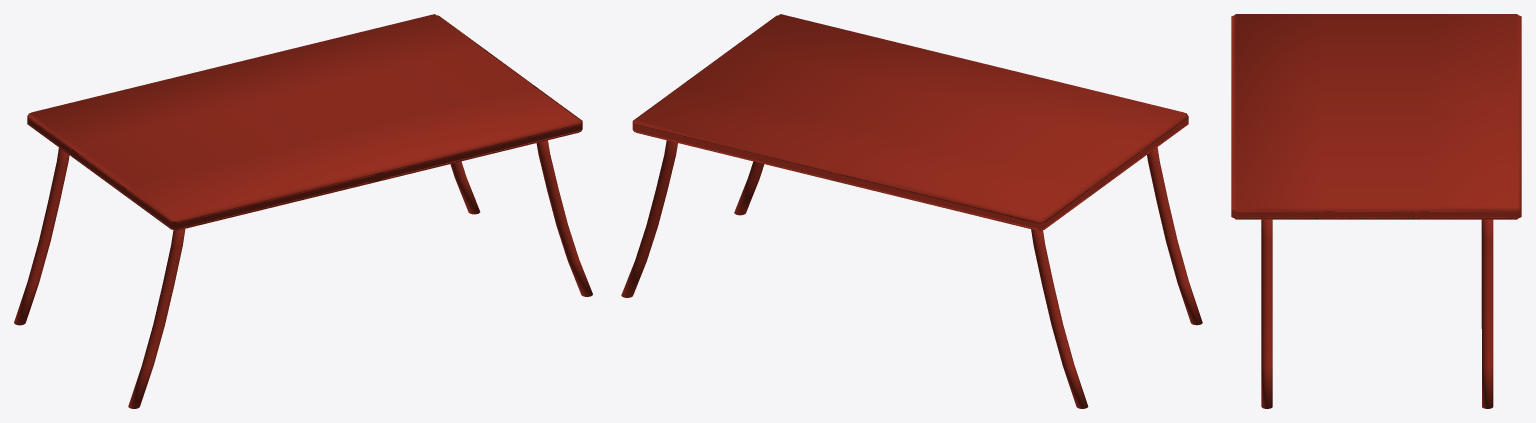
Rendered from mesa.obj.
3 renders of one model, left to right at view 1: azimuth 30°, elevation 25°; view 2: azimuth 150°, elevation 25°; view 3: azimuth 270°, elevation 25°, orthographic. The views are drawn at different scales.
Parts seen in each view (by area): view 1: Box001, Cylinder001, Cylinder002, Cylinder004, Cylinder003; view 2: Box001, Cylinder002, Cylinder001, Cylinder003, Cylinder004; view 3: Box001, Cylinder003, Cylinder004.
Part boxes in pixels (x1,y1,x2,y2): Box001: (27,14,582,230); Cylinder001: (128,229,185,408); Cylinder002: (14,147,69,325); Cylinder004: (536,140,592,296); Cylinder003: (450,161,480,214); Box001: (632,14,1188,231); Cylinder002: (1031,229,1088,408); Cylinder001: (1147,147,1202,325); Cylinder003: (621,140,677,297); Cylinder004: (734,161,764,215); Box001: (1231,14,1521,219); Cylinder003: (1481,219,1493,408); Cylinder004: (1261,219,1272,408).
Bounding box in the file's own units: 71.16 × 28.21 × 39.37.
Materials: 1 (1 with a texture image).
